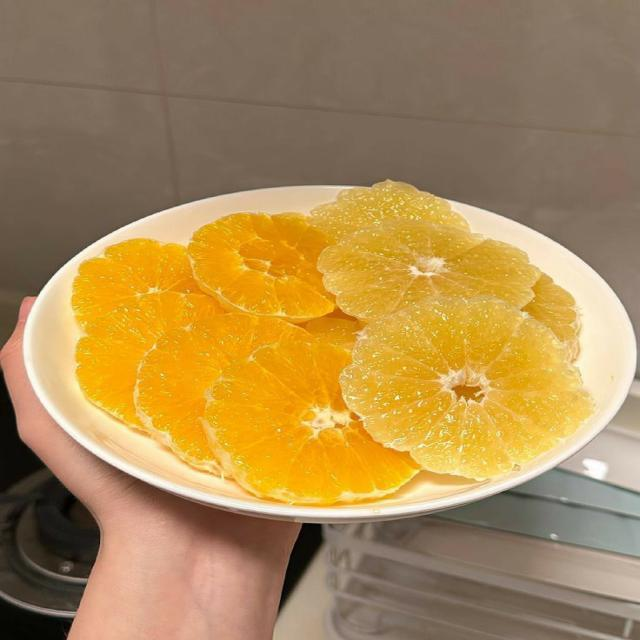orange: (341, 299, 593, 479), (205, 342, 416, 504), (134, 313, 313, 472), (319, 220, 539, 319), (76, 292, 222, 427), (188, 213, 334, 322), (73, 239, 201, 326), (311, 181, 468, 238), (523, 274, 579, 360), (305, 316, 364, 349)
